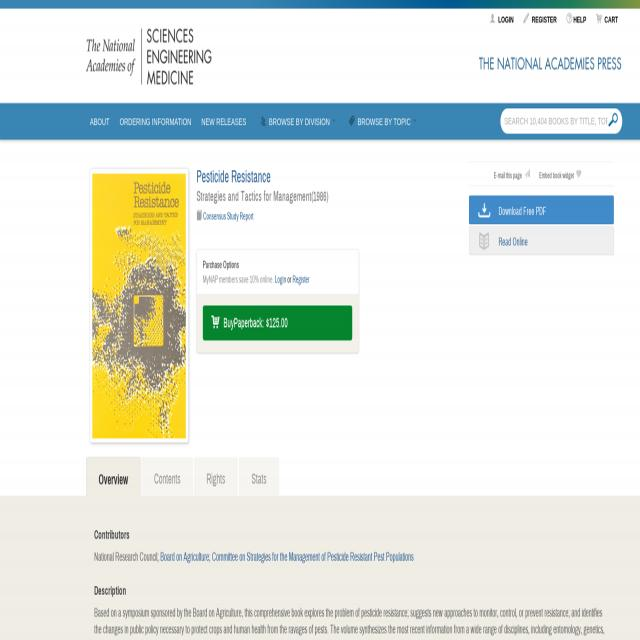button: (90, 169, 188, 443), (86, 9, 260, 103), (203, 306, 352, 340), (469, 226, 614, 256), (470, 195, 614, 224), (118, 103, 192, 140), (255, 103, 343, 133), (343, 103, 424, 133), (86, 457, 140, 497), (141, 457, 193, 497), (200, 103, 248, 140), (194, 457, 238, 497), (239, 458, 279, 497), (88, 103, 112, 140)
field: (501, 109, 622, 133)
